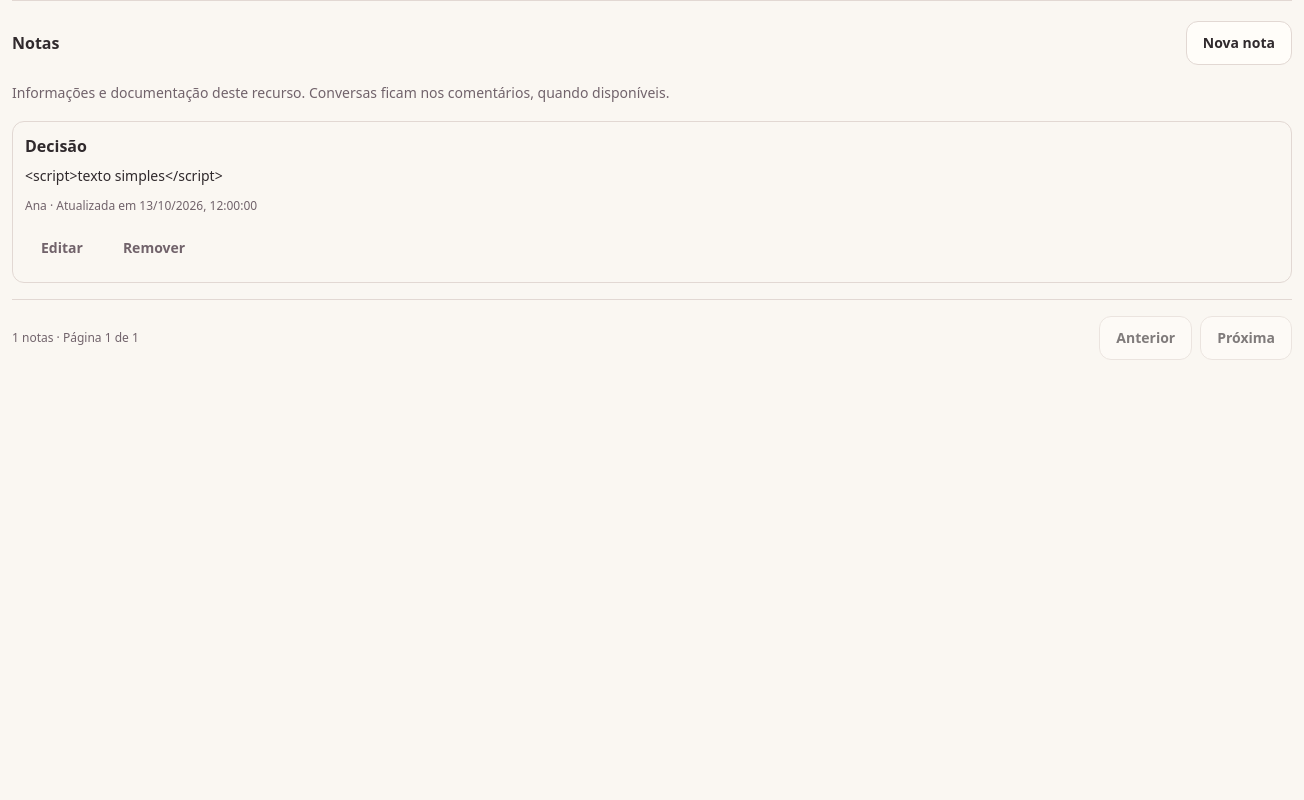
Test: conflito preserva texto e formulário
This screenshot has width=1304, height=800.
Click the button with aria-label "Editar nota Decisão". click: (62, 248)
box: [25,226,99,270]
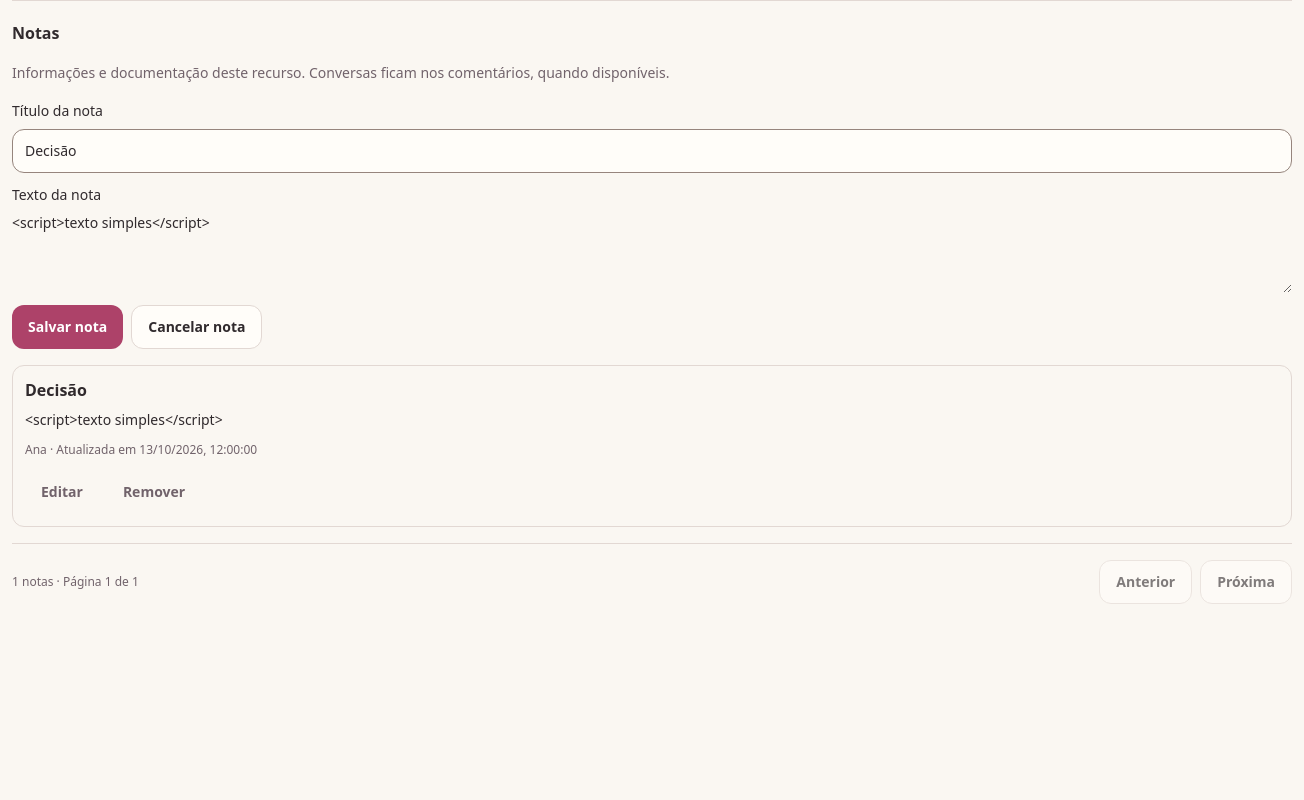
Replace the text in the text box labelled "Texto da nota" with "Rascunho preservado". click: (652, 253)
box: [12,213,1292,293]
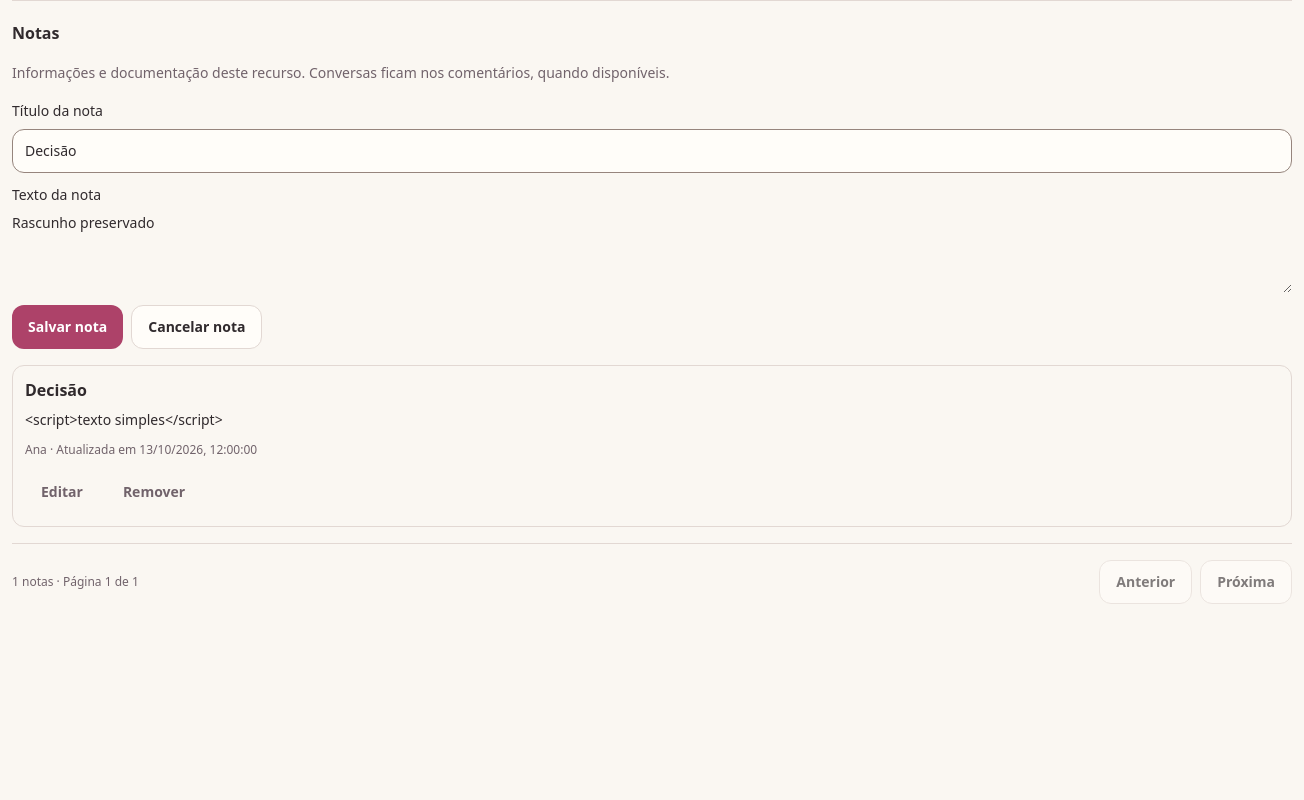
Submit the form "Salvar nota", box [12,101,1292,349]
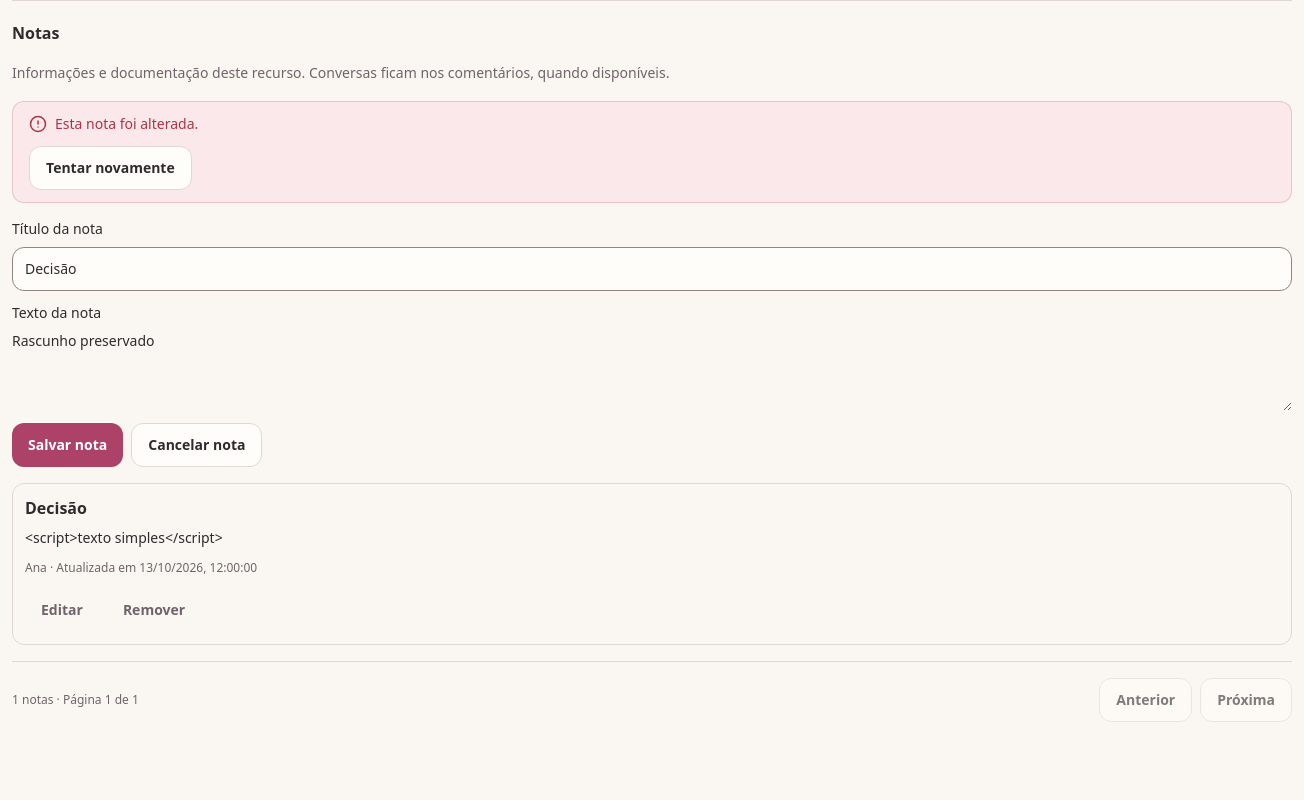
Expected: the text "Esta nota foi alterada." is shown, [29,114,198,133]
